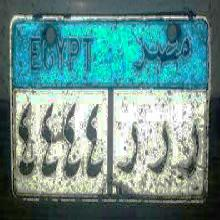4: (37, 100, 59, 180), (61, 102, 82, 184), (84, 104, 105, 182), (17, 98, 36, 179)
raa: (177, 116, 201, 186), (115, 123, 139, 185), (145, 121, 170, 176)
